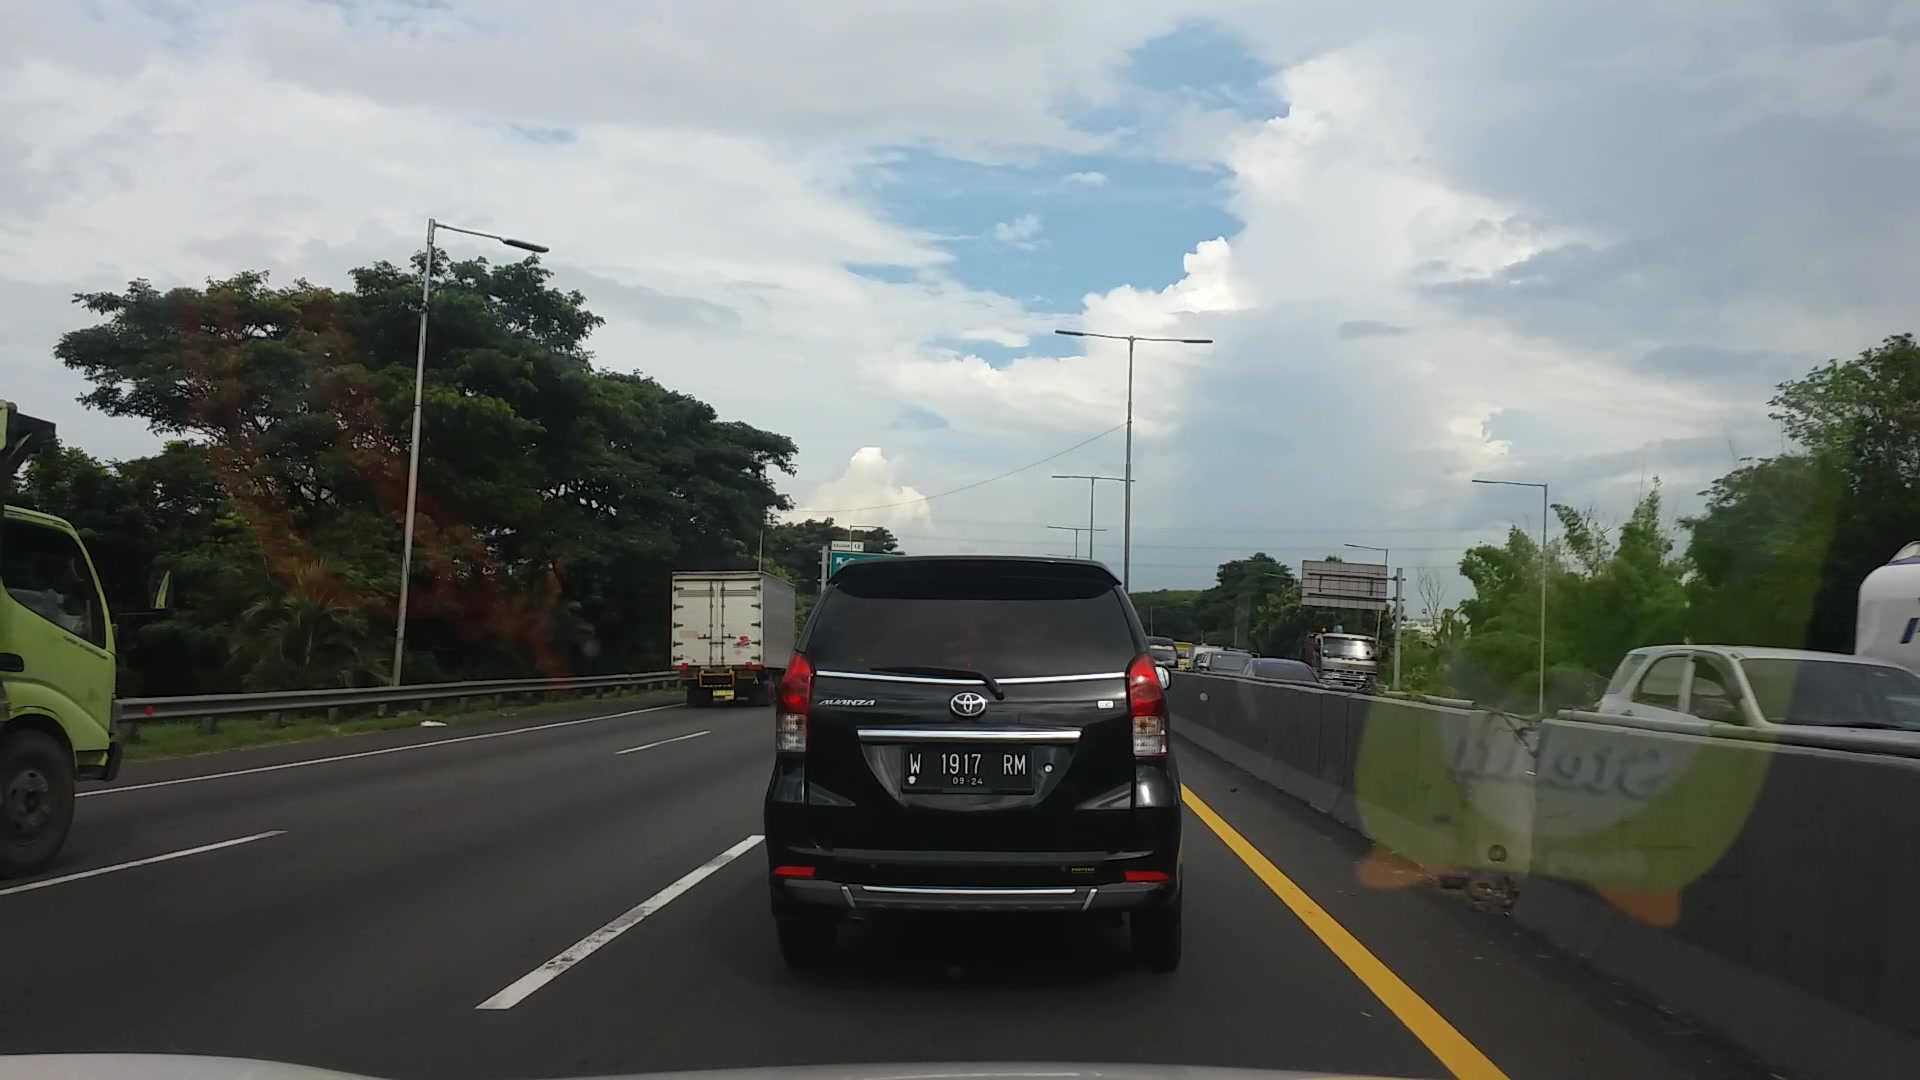plate_positive: (901, 742, 1035, 795)
